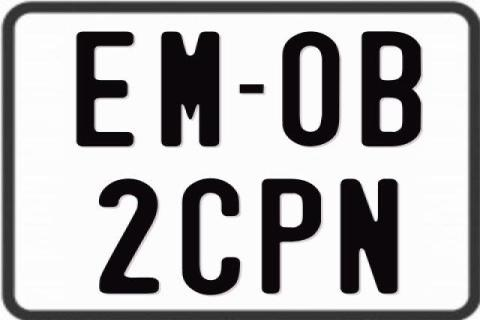0: (99, 176, 161, 295), (279, 31, 338, 146)
B: (362, 30, 426, 148)
C: (181, 176, 242, 293)
E: (75, 29, 139, 147)
M: (161, 31, 225, 147)
N: (340, 176, 402, 294)
P: (259, 178, 324, 298)
